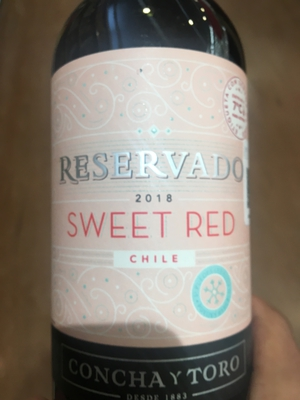reservado sweet red: (40, 17, 257, 400)
